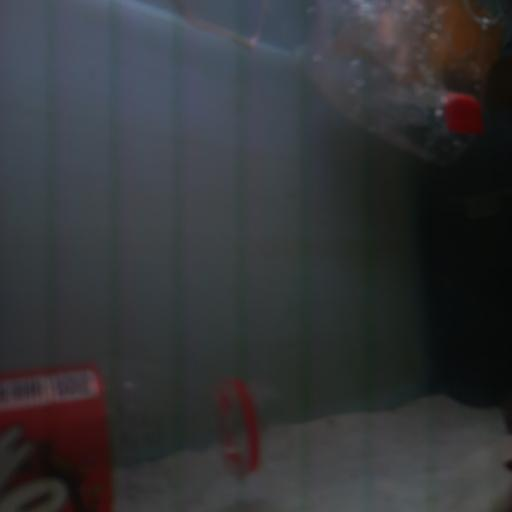bottle_cap: (446, 95, 484, 136)
plastic_bag: (304, 0, 512, 171)
plastic_bottle: (0, 367, 284, 504)
